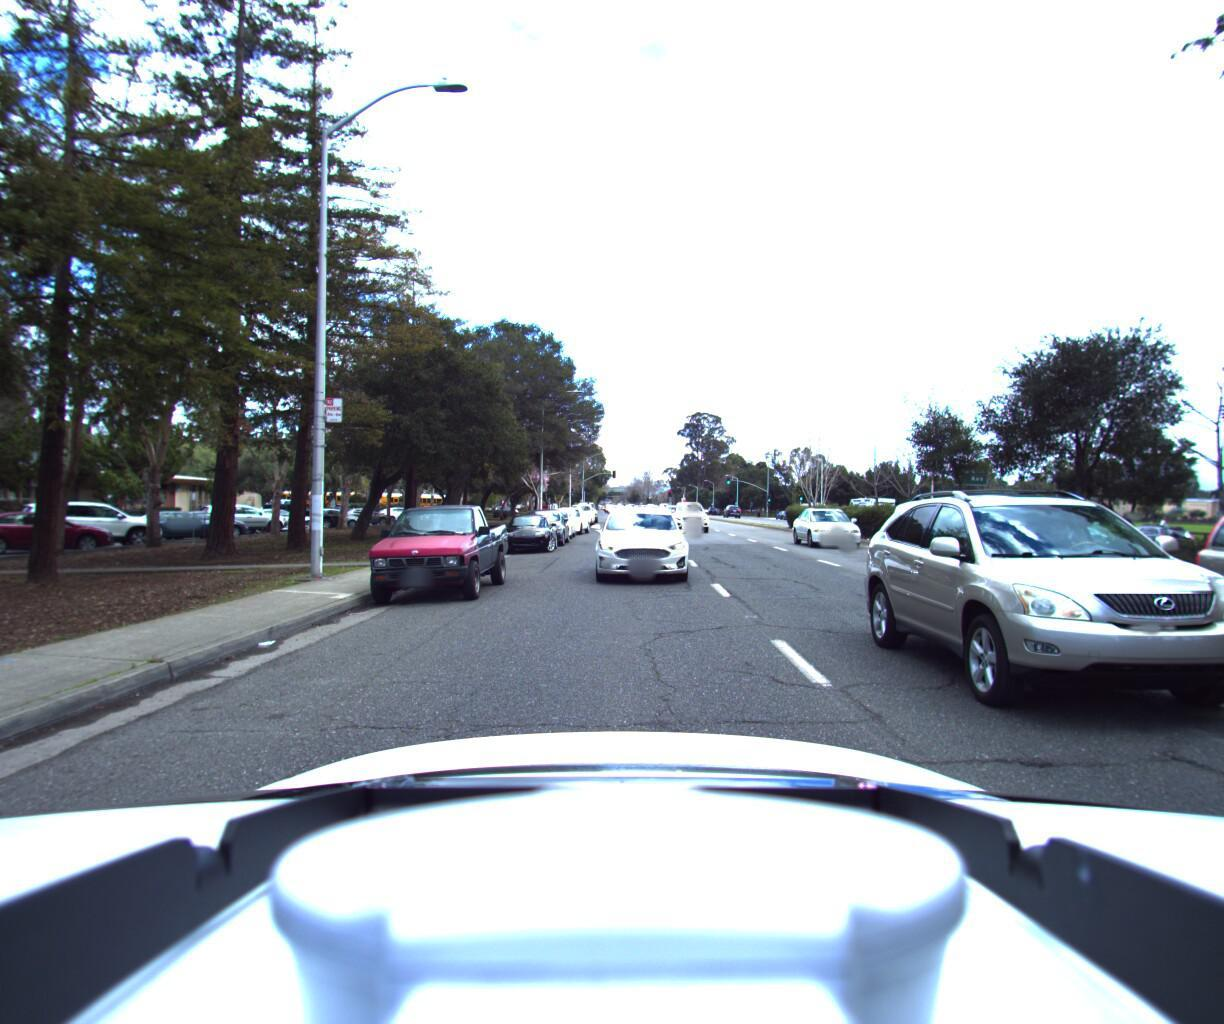car: (883, 434, 1224, 838), (359, 500, 514, 609), (582, 501, 702, 598), (793, 500, 885, 554), (1100, 522, 1197, 562), (499, 513, 561, 556), (516, 509, 573, 548), (670, 502, 716, 537), (544, 507, 593, 538), (533, 508, 577, 541), (567, 503, 596, 529), (611, 502, 639, 526)
other_vehicle: (934, 495, 1028, 545), (842, 495, 899, 531)
